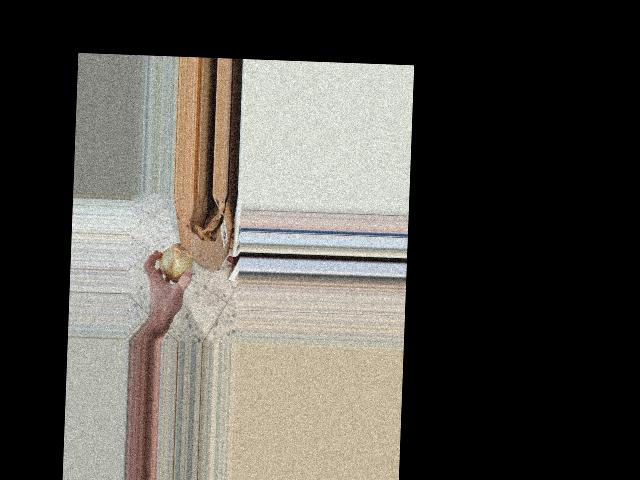onion: (155, 241, 195, 287)
